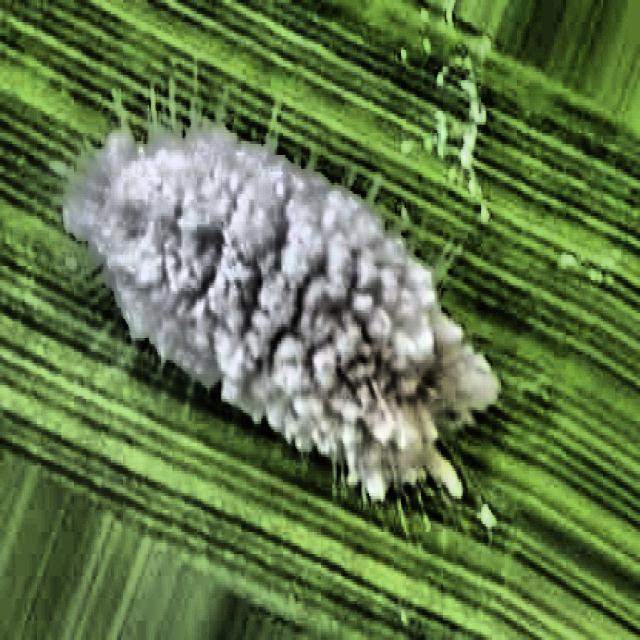Mealy-bug: (15, 37, 522, 544)
